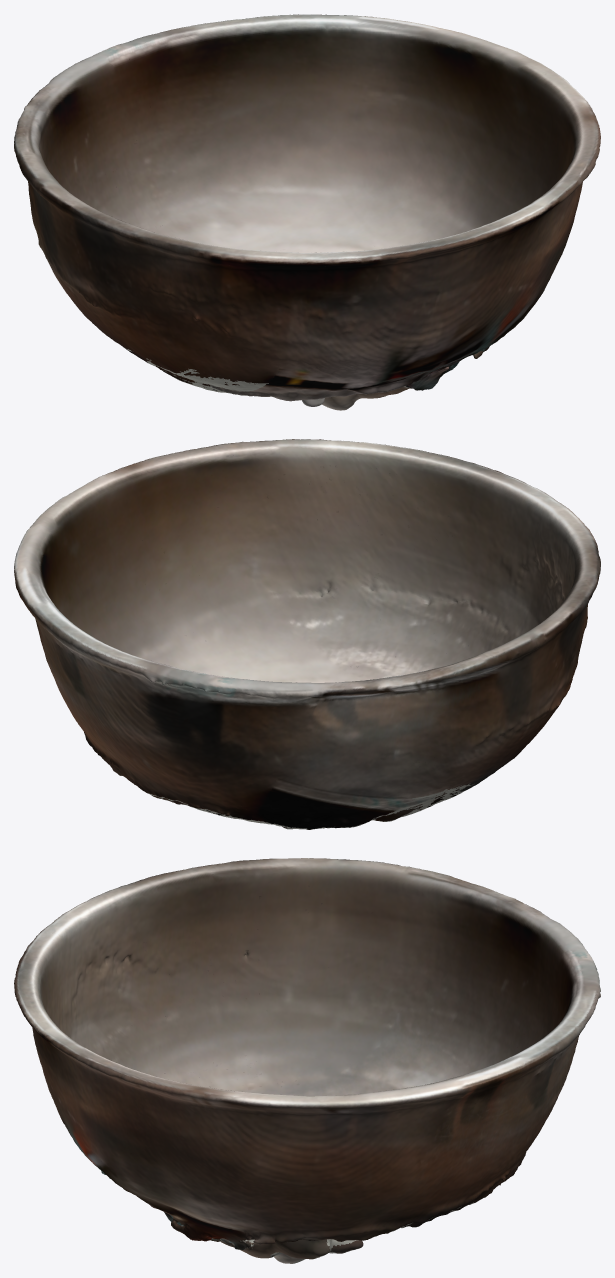
File: 3DModel.glb
3 views of the same model, one above another, from view 1: azimuth 30°, elevation 25°; view 2: azimuth 150°, elevation 25°; view 3: azimuth 270°, elevation 25° (orthographic).
Visible parts, largest first — view 1: 3DModel; view 2: 3DModel; view 3: 3DModel.
Boxes of the visible parts, x1,y1,x2,y2 form: 3DModel: (14,14,600,410); 3DModel: (14,439,600,829); 3DModel: (14,858,600,1263).
Bounding box in the file's own units: 0.5636 × 0.2908 × 0.5681.
Materials: 1 (1 with a texture image).
